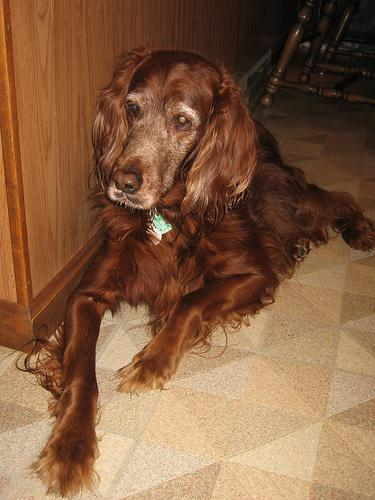Irish_setter: (18, 43, 373, 495)
